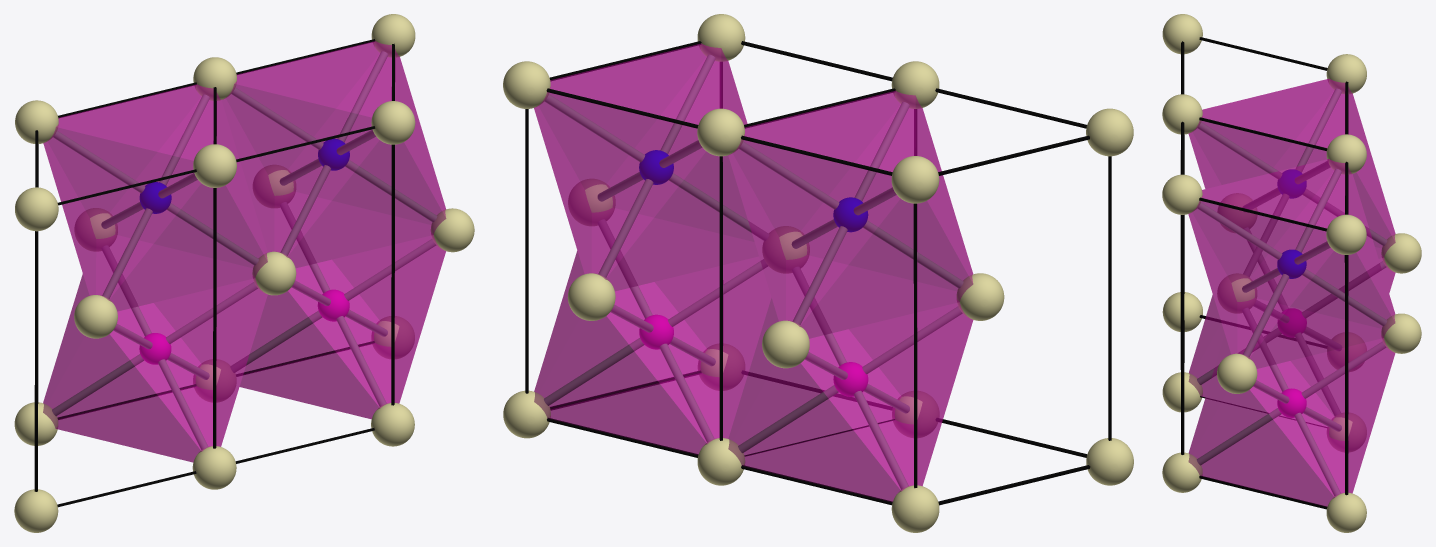
File: MnTe.glb
The picture shows the model from 3 angles, left to right: view 1: azimuth 30°, elevation 25°; view 2: azimuth 150°, elevation 25°; view 3: azimuth 270°, elevation 25°; orthographic projection. The views are drawn at different scales.
Parts seen in each view (by area): view 1: CMPoly0, CMPoly1, CMPoly4, CMPoly5, CMPoly2, CMPoly3, CMPoly6, CMPoly7, CMAtom_9, CMAtom_12, CMAtom_26, CMAtom_31 (+36 smaller); view 2: CMPoly4, CMPoly5, CMPoly0, CMPoly1, CMPoly2, CMPoly3, CMPoly6, CMPoly7, CMAtom_8, CMAtom_3, CMAtom_17, CMAtom_11 (+39 smaller); view 3: CMPoly0, CMPoly1, CMPoly6, CMPoly7, CMPoly4, CMPoly5, CMPoly2, CMPoly3, CMAtom_28, CMAtom_29, CMAtom_31, CMAtom_30 (+39 smaller).
Boxes of the visible parts, bbox=[...] form: CMPoly0: bbox=[222, 41, 445, 267]; CMPoly1: bbox=[222, 41, 445, 267]; CMPoly4: bbox=[43, 84, 267, 310]; CMPoly5: bbox=[43, 84, 267, 310]; CMPoly2: bbox=[43, 274, 267, 462]; CMPoly3: bbox=[43, 275, 267, 461]; CMPoly6: bbox=[240, 235, 445, 418]; CMPoly7: bbox=[240, 235, 445, 418]; CMAtom_9: bbox=[74, 295, 117, 338]; CMAtom_12: bbox=[15, 187, 58, 231]; CMAtom_26: bbox=[193, 144, 236, 187]; CMAtom_31: bbox=[371, 101, 415, 144]; CMPoly4: bbox=[728, 91, 972, 338]; CMPoly5: bbox=[728, 91, 972, 337]; CMPoly0: bbox=[534, 43, 758, 290]; CMPoly1: bbox=[534, 44, 758, 290]; CMPoly2: bbox=[728, 298, 972, 501]; CMPoly3: bbox=[728, 298, 972, 501]; CMPoly6: bbox=[534, 251, 771, 454]; CMPoly7: bbox=[534, 251, 770, 454]; CMAtom_8: bbox=[891, 156, 939, 203]; CMAtom_3: bbox=[762, 320, 809, 368]; CMAtom_17: bbox=[567, 273, 615, 320]; CMAtom_11: bbox=[891, 485, 939, 532]; CMPoly0: bbox=[1188, 159, 1394, 368]; CMPoly1: bbox=[1188, 159, 1394, 368]; CMPoly6: bbox=[1189, 335, 1394, 506]; CMPoly7: bbox=[1189, 335, 1394, 506]; CMPoly4: bbox=[1189, 79, 1395, 258]; CMPoly5: bbox=[1189, 79, 1395, 258]; CMPoly2: bbox=[1189, 257, 1395, 397]; CMPoly3: bbox=[1189, 258, 1394, 396]; CMAtom_28: bbox=[1326, 214, 1366, 254]; CMAtom_29: bbox=[1217, 353, 1257, 393]; CMAtom_31: bbox=[1162, 174, 1202, 214]; CMAtom_30: bbox=[1326, 492, 1366, 532].
Bounding box in the file's own units: 1.72 × 1.16 × 0.8649.
